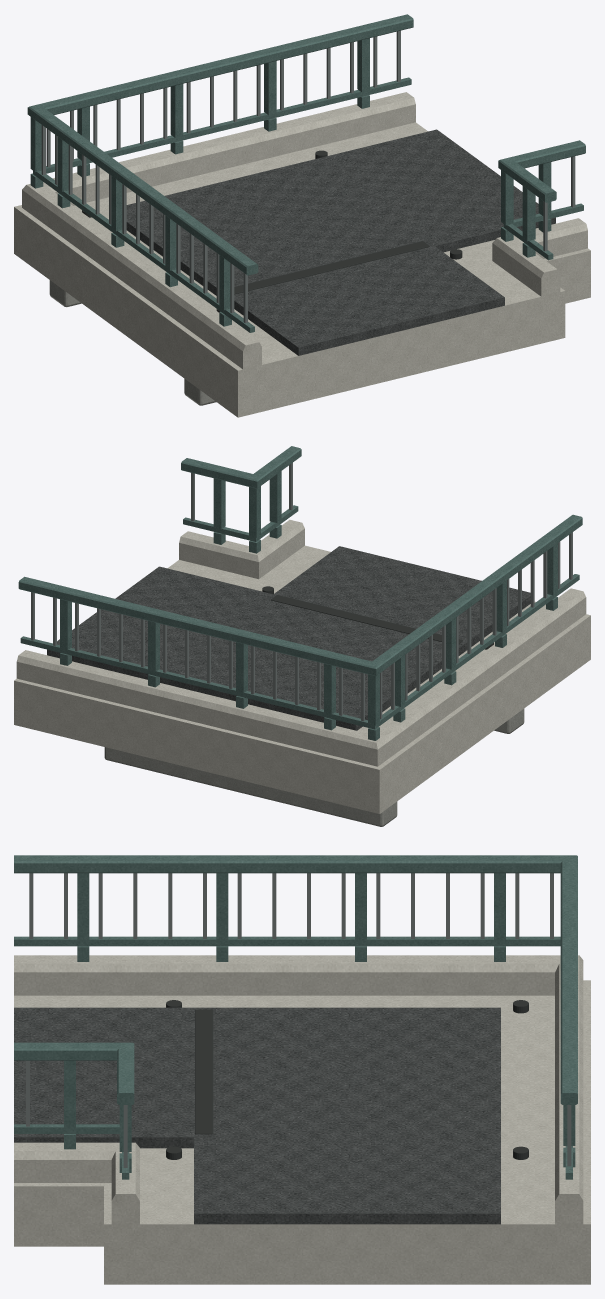
Rendered from BRG_LOCAL_DECK_1x1_CORNER.glb.
3 renders of one model, top to bottom at view 1: azimuth 30°, elevation 25°; view 2: azimuth 150°, elevation 25°; view 3: azimuth 270°, elevation 25°, orthographic. The views are drawn at different scales.
Visible parts, largest first — view 1: BRG_LOCAL_DECK_1x1_CORNER_Visual; view 2: BRG_LOCAL_DECK_1x1_CORNER_Visual; view 3: BRG_LOCAL_DECK_1x1_CORNER_Visual.
Boxes of the visible parts, <box> form: BRG_LOCAL_DECK_1x1_CORNER_Visual: <box>14,14,590,417</box>; BRG_LOCAL_DECK_1x1_CORNER_Visual: <box>14,446,590,826</box>; BRG_LOCAL_DECK_1x1_CORNER_Visual: <box>14,855,590,1284</box>.
Size of what is drawn, in the model's own units: 1.73 by 0.775 by 1.73.
6 materials, 4 textured.
